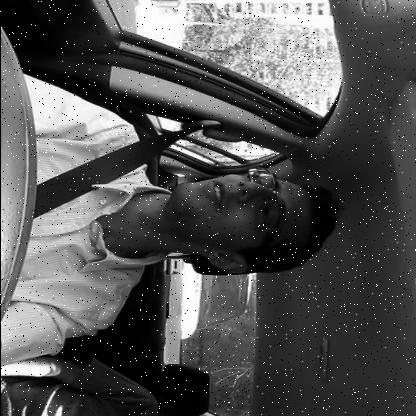seatbelt: (22, 109, 342, 311)
